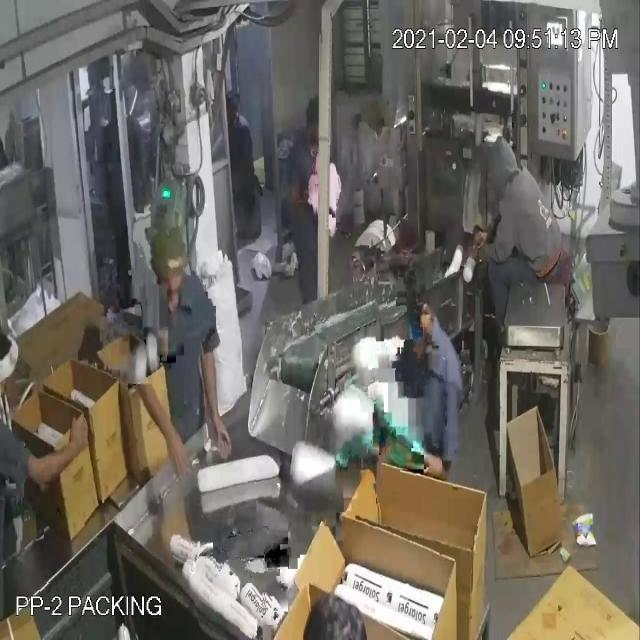No_Gloves: (41, 52, 480, 446)
